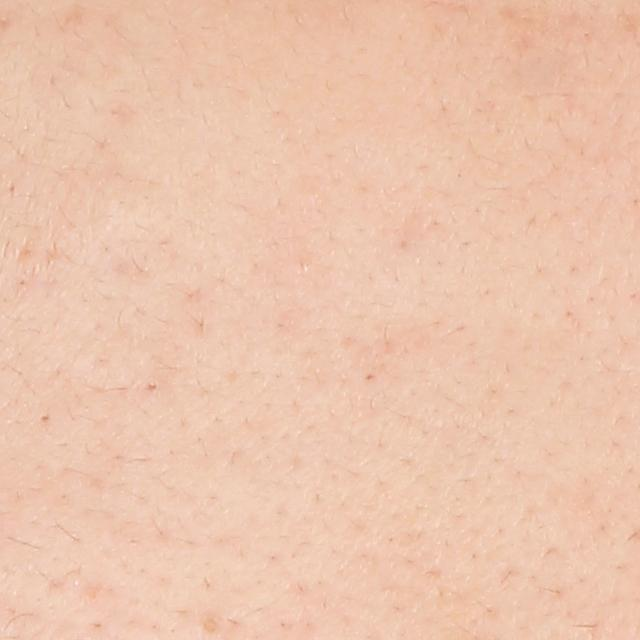comedo: (141, 380, 159, 392)
